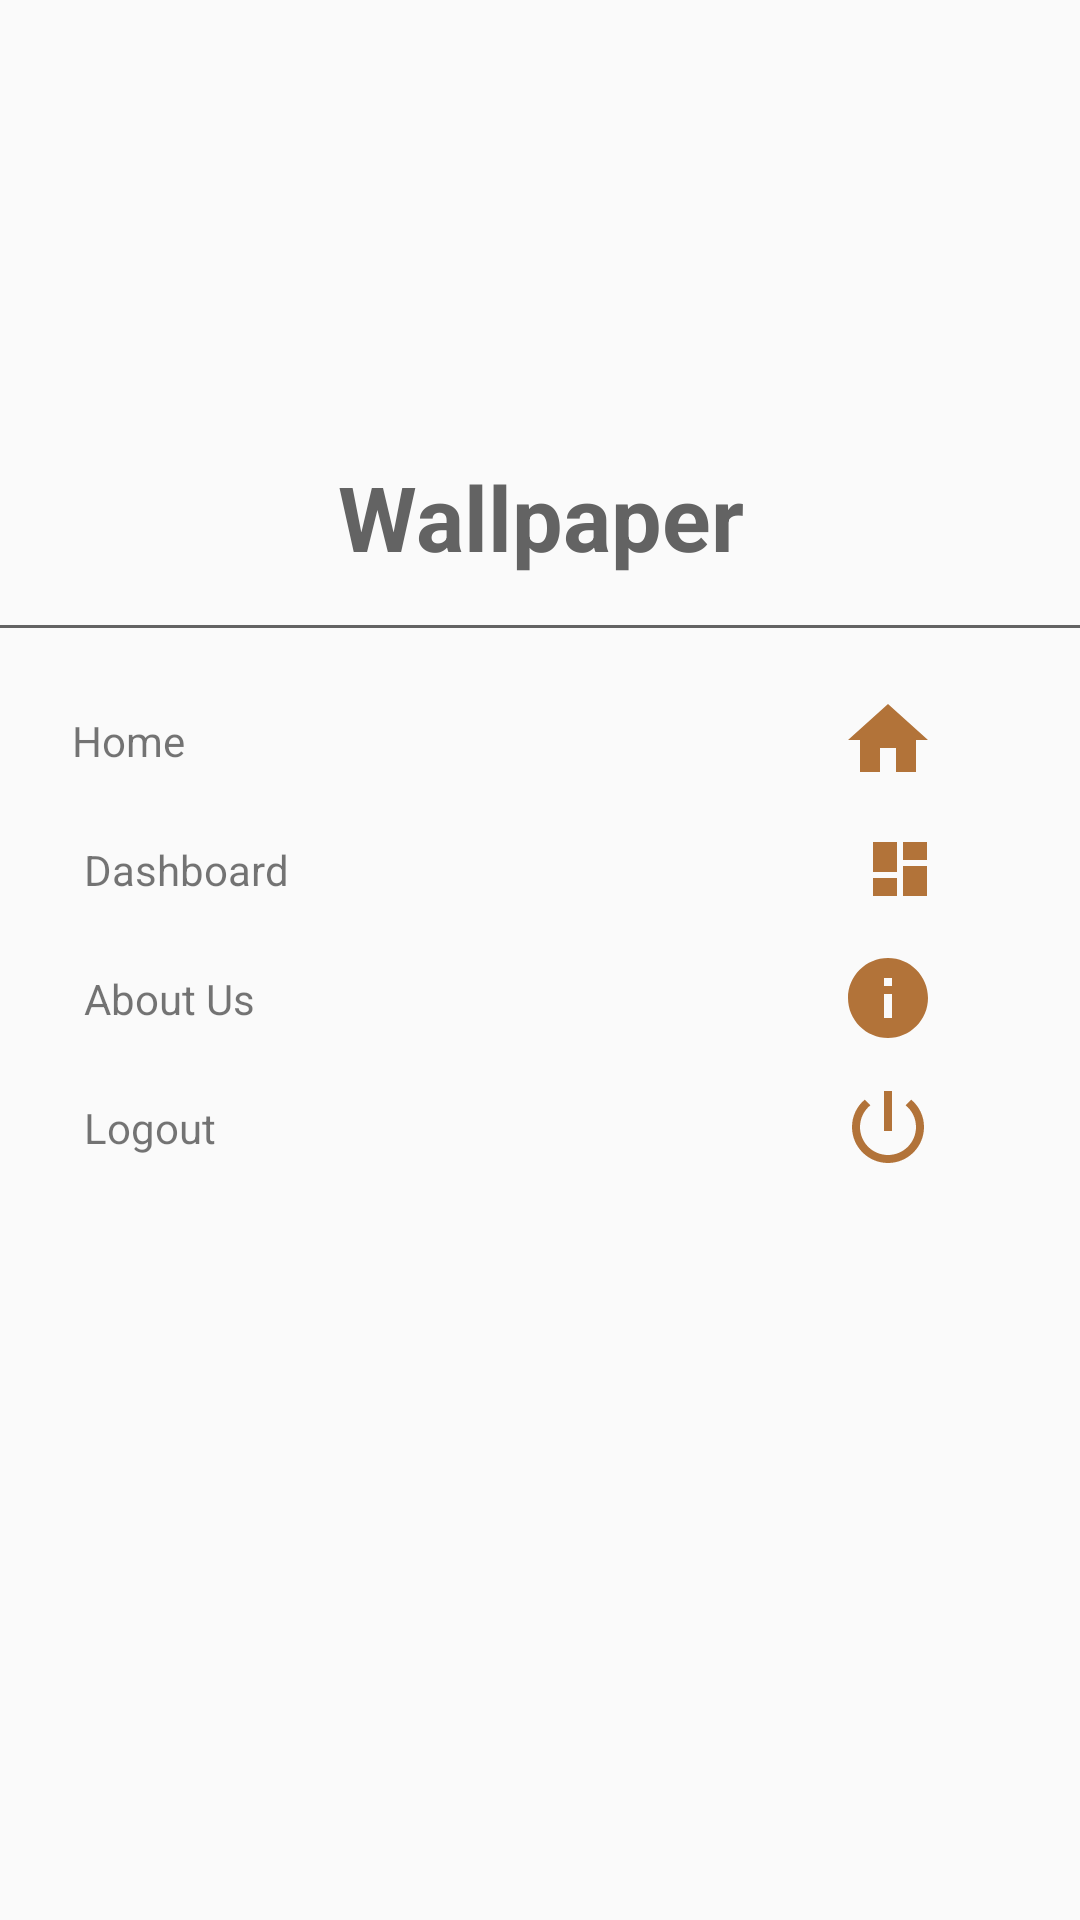

Locate icon controls on the screen. Image size 1080px×1920px, boxes as (x1, y1, x2, y2).
info: (848, 958, 928, 1038)
